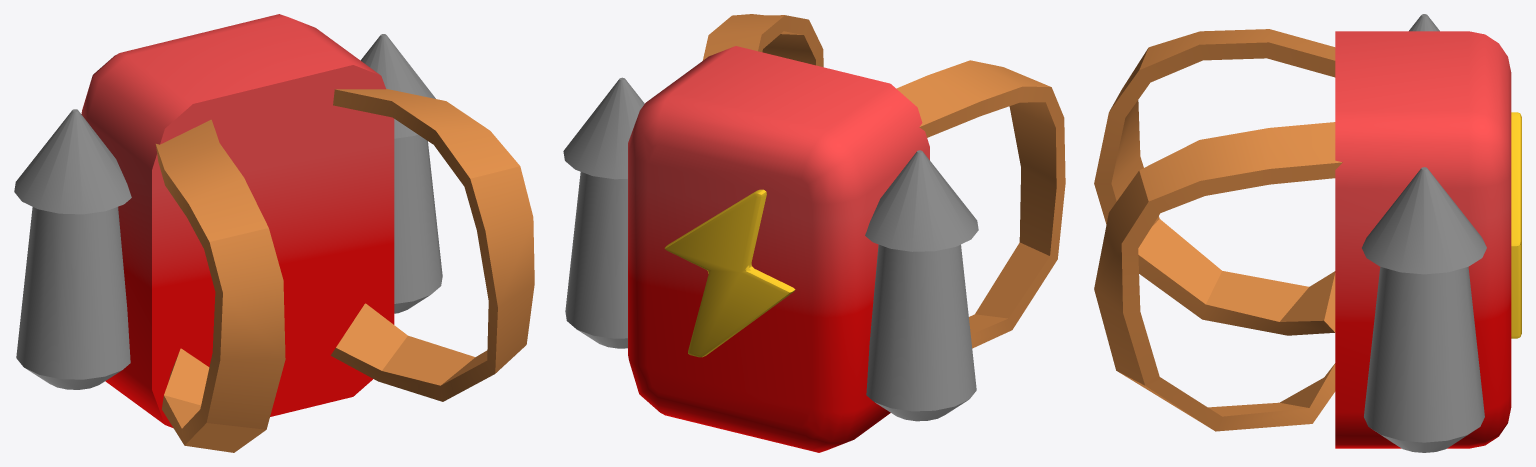
File: Jetpack.fbx
3 views of the same model, side by side, from view 1: azimuth 30°, elevation 25°; view 2: azimuth 150°, elevation 25°; view 3: azimuth 270°, elevation 25° (orthographic). The views are drawn at different scales.
Visible parts, largest first — view 1: Jetpack; view 2: Jetpack; view 3: Jetpack.
Part boxes in pixels (x1,y1,x2,y2): Jetpack: (14, 14, 534, 452); Jetpack: (563, 14, 1065, 452); Jetpack: (1094, 14, 1521, 452).
Size of the model in its own units: 57.7 by 44.09 by 50.61.
